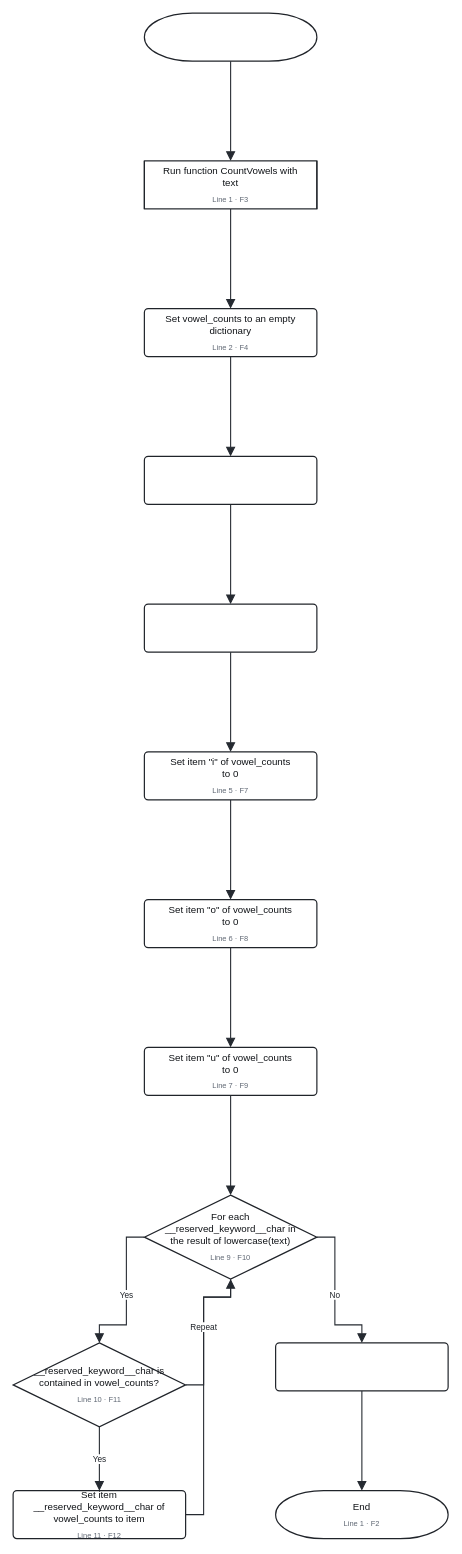
The diagram is 462 pixels wide and 1554 high, and some of its shapes have lost their labels. Each missing label, with the centre of its shape:
Return vowel_counts Line 15 · F13: (361,1366)
Set item "a" of vowel_counts to 0 Line 3 · F5: (230,480)
Set item "e" of vowel_counts to 0 Line 4 · F6: (230,627)
Start Line 1 · F1: (230,36)
